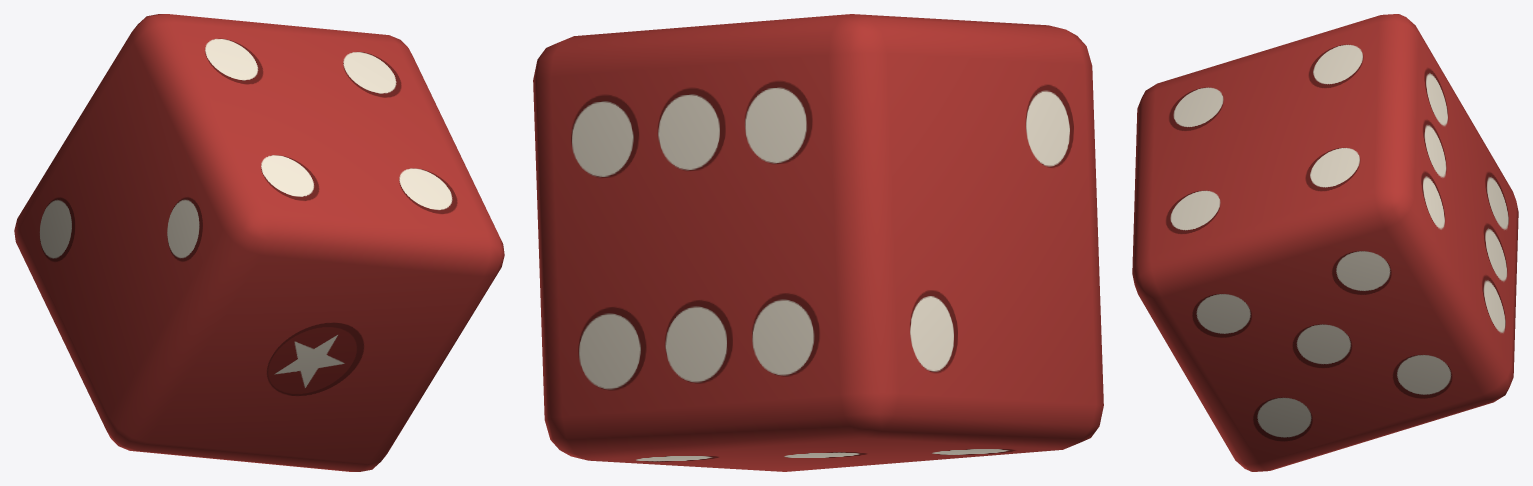
Rendered from a-box-die.glb.
The picture shows the model from 3 angles, left to right: view 1: azimuth 30°, elevation 25°; view 2: azimuth 150°, elevation 25°; view 3: azimuth 270°, elevation 25°; orthographic projection. The views are drawn at different scales.
Parts seen in each view (by area): view 1: Die body; view 2: Die body; view 3: Die body.
Part boxes in pixels (left/top/right/bottom): Die body: left=14, top=14, right=504, bottom=471; Die body: left=533, top=14, right=1103, bottom=471; Die body: left=1132, top=14, right=1518, bottom=471.
Bounding box in the file's own units: 0.0205 × 0.023 × 0.0203.
Materials: 1 (1 with a texture image).
